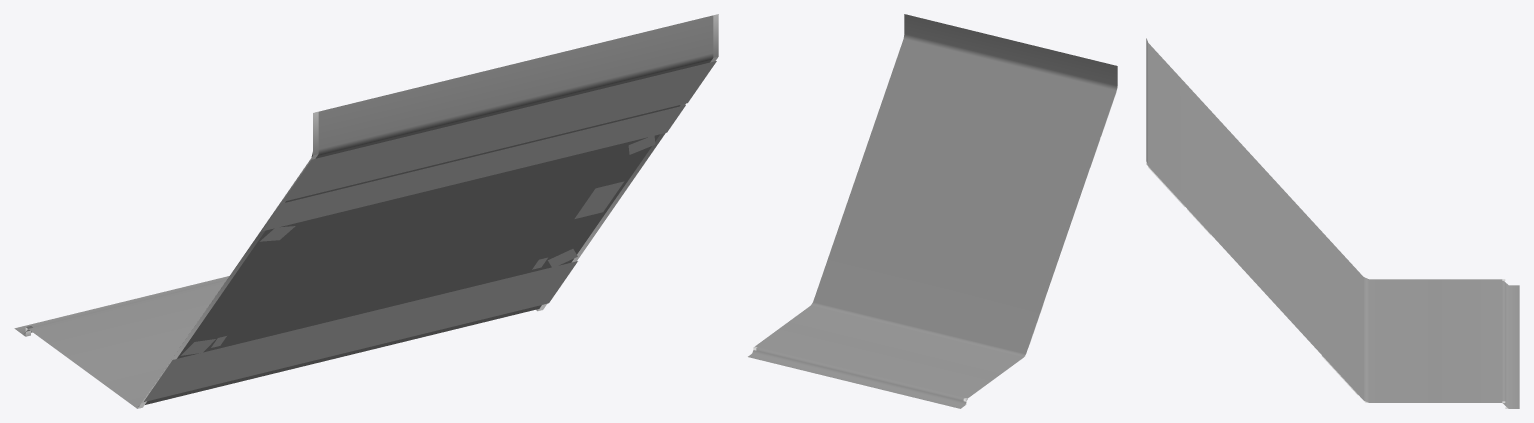
The model's file is WallPieceAngular.fbx.
The picture shows the model from 3 angles, left to right: view 1: azimuth 30°, elevation 25°; view 2: azimuth 150°, elevation 25°; view 3: azimuth 270°, elevation 25°; orthographic projection. The views are drawn at different scales.
Visible parts, largest first — view 1: Cube.048, StylizedHardSurface_TrimDecals_011.002, StylizedHardSurface_TrimDecals_011.004, StylizedHardSurface_TrimDecals_004.004, StylizedHardSurface_Panels_003.007, StylizedHardSurface_Decals_034.002_projected; view 2: Cube.048; view 3: Cube.048.
Boxes of the visible parts, x1,y1,x2,y2 form: Cube.048: [14, 15, 713, 406]; StylizedHardSurface_TrimDecals_011.002: [282, 61, 716, 201]; StylizedHardSurface_TrimDecals_011.004: [144, 261, 577, 401]; StylizedHardSurface_TrimDecals_004.004: [261, 105, 685, 231]; StylizedHardSurface_Panels_003.007: [23, 14, 718, 408]; StylizedHardSurface_Decals_034.002_projected: [574, 181, 624, 218]; Cube.048: [748, 14, 1117, 408]; Cube.048: [1146, 38, 1519, 408].
Bounding box in the file's own units: 200 × 205 × 255.
